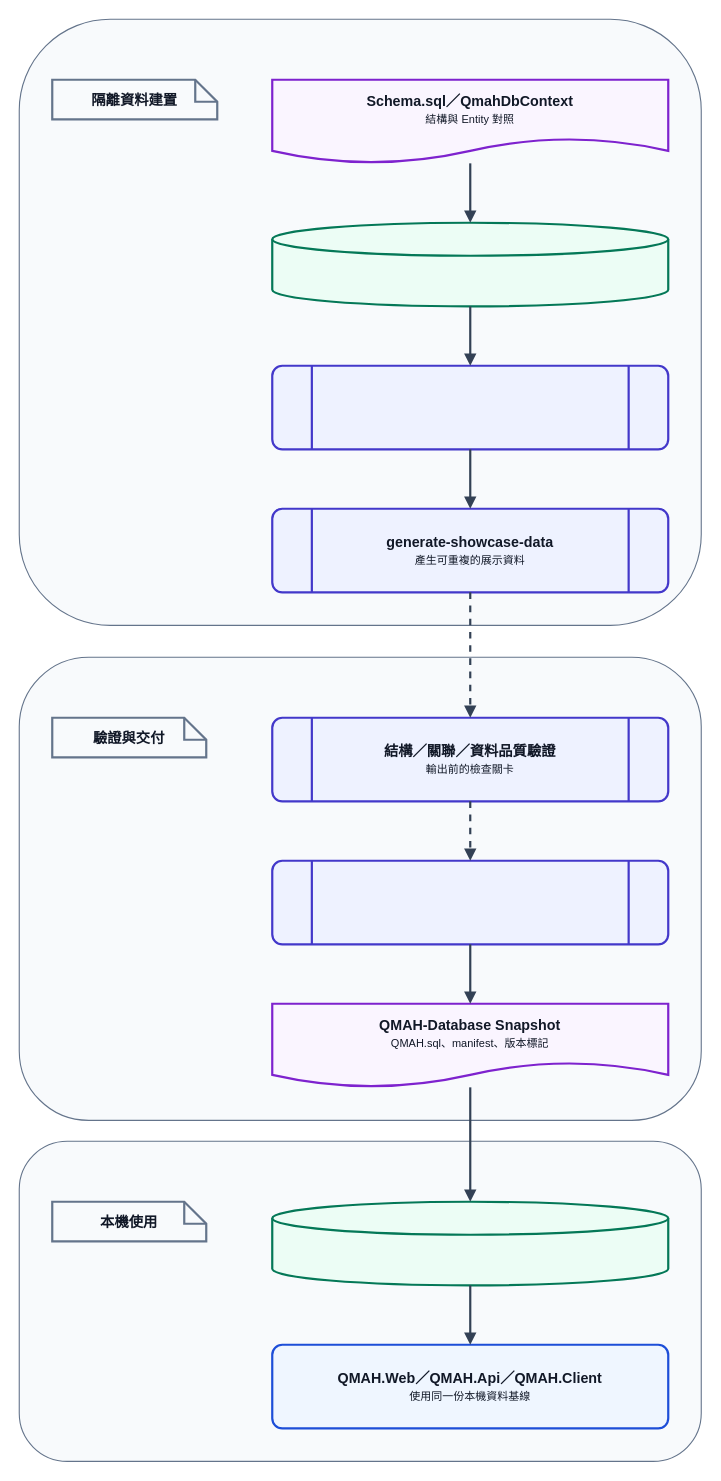
Image size: 721x1481. Some labels were removed from this diagram. Each missing label, with the box of its shape:
Export-ReferenceDatabase.ps1 產出 SQL Snapshot 與 manifest: (271, 859, 669, 945)
seed-showcase-users 建立展示用帳號與角色: (271, 364, 669, 450)
本機 QMAH 副本 依本機設定自動尋找或指定資料庫: (271, 1200, 669, 1286)
隔離 QMAH 資料庫 展示資料產生位置: (271, 221, 669, 307)
